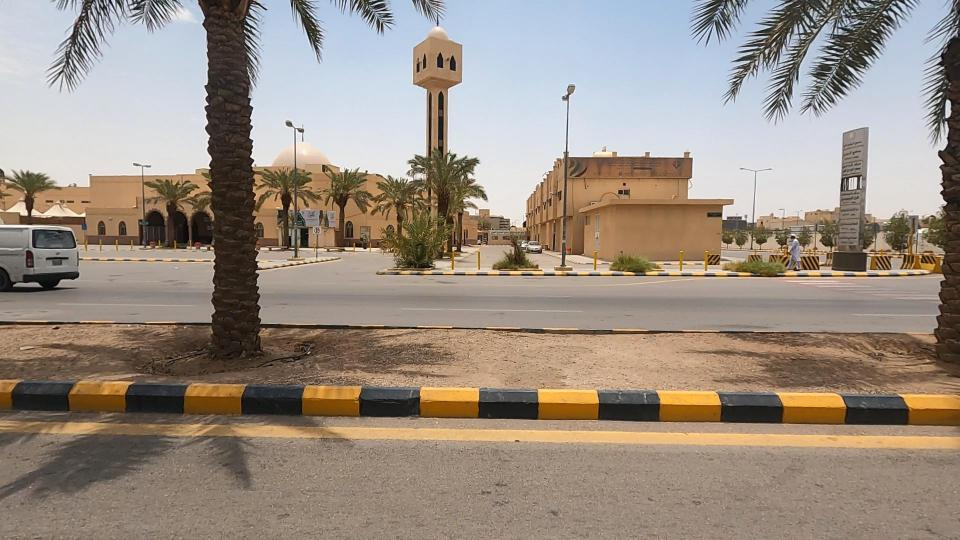GARBAGE: (228, 309, 351, 409)
